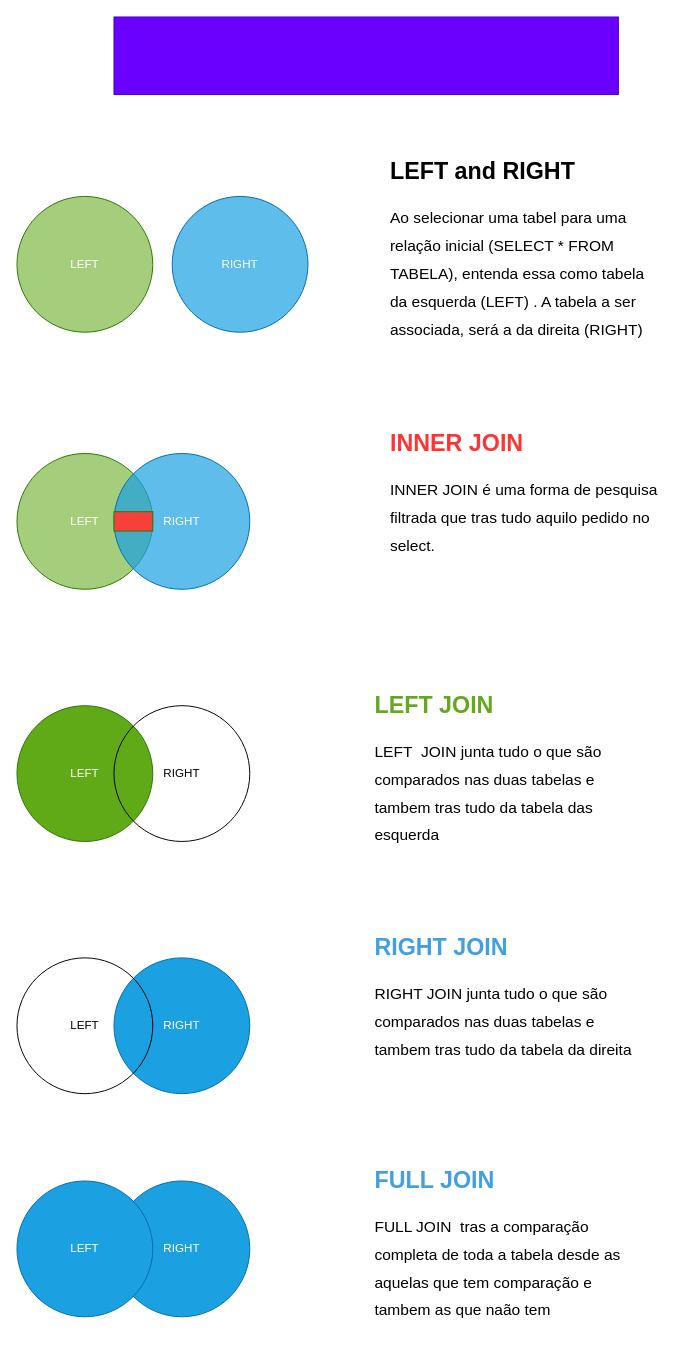
This 684x1353 diagram has some shape labels left out. Here are the shapes that lost their labels. From the top down, the box of each, then its label:
(113, 16, 618, 95): INNER, LEFT, RIGHT E FULL JOIN
(113, 511, 153, 531): INNER
